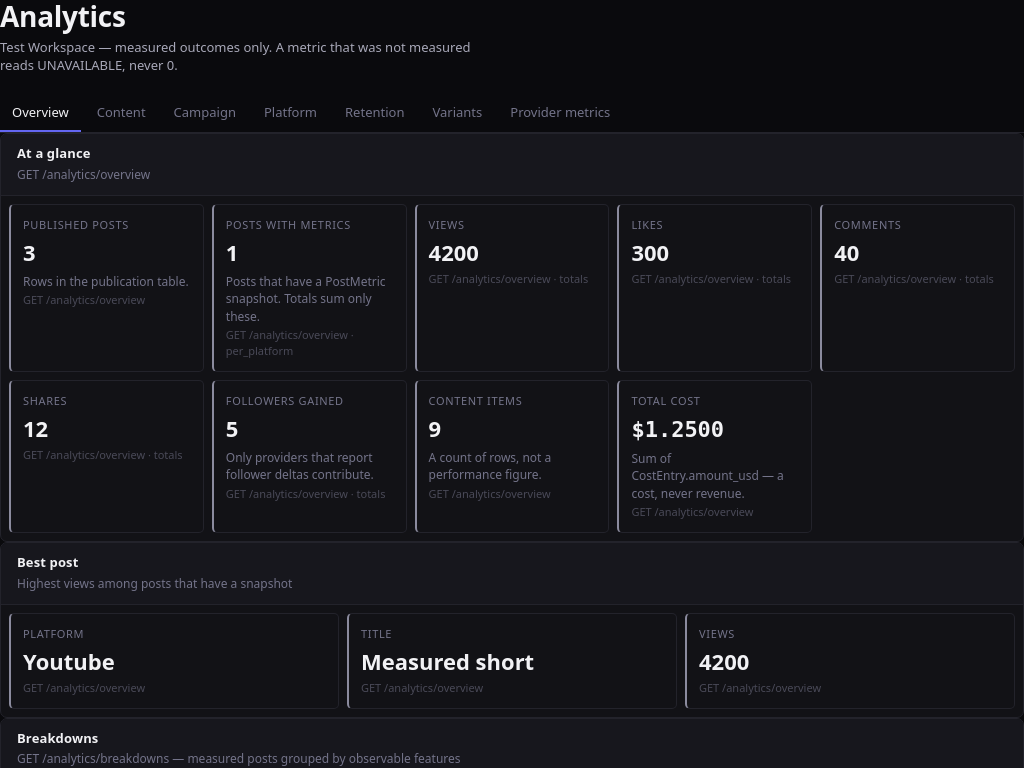
UNAVAILABLE is not zero › renders a per-post metric as UNAVAILABLE when no snapshot exists, never 0
The width and height of the screenshot is (1024, 768).
Move to the Content tab.
Click the tab "Content". click: (121, 114)
box: [85, 95, 158, 132]
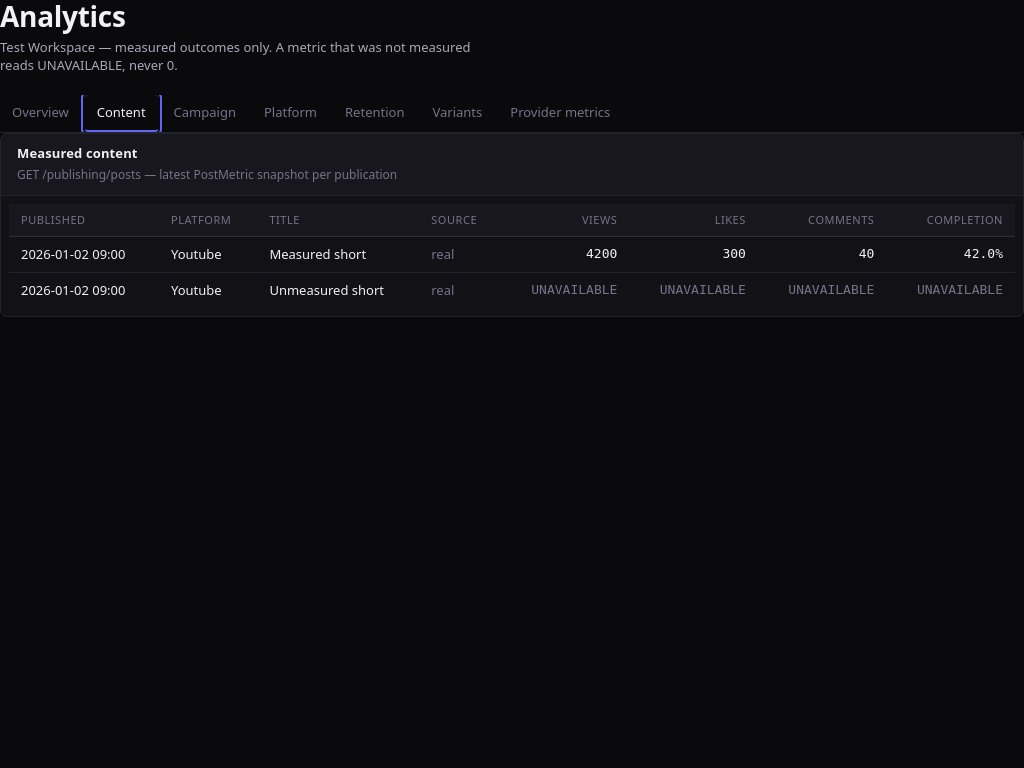
Now the text "Unmeasured short" is shown, box [257, 272, 419, 308]
